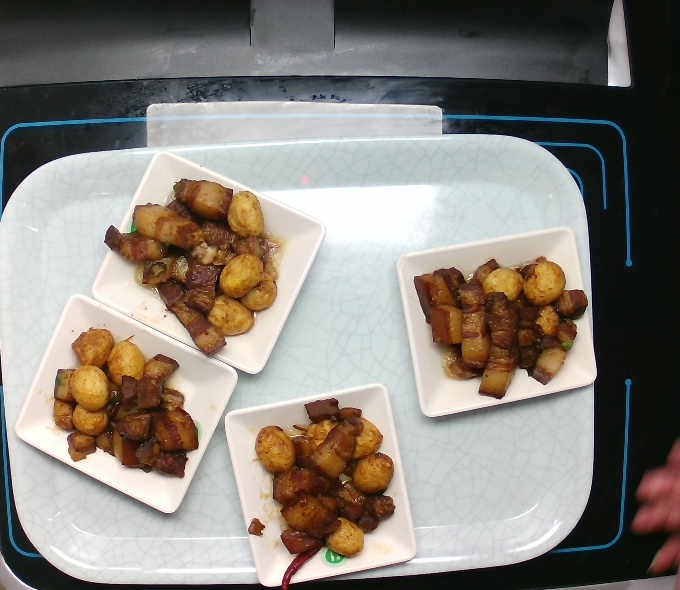wcq-HongShaoRouChaoAnChunDan: (107, 171, 276, 344), (413, 250, 593, 400), (52, 319, 199, 494), (250, 399, 397, 574)
